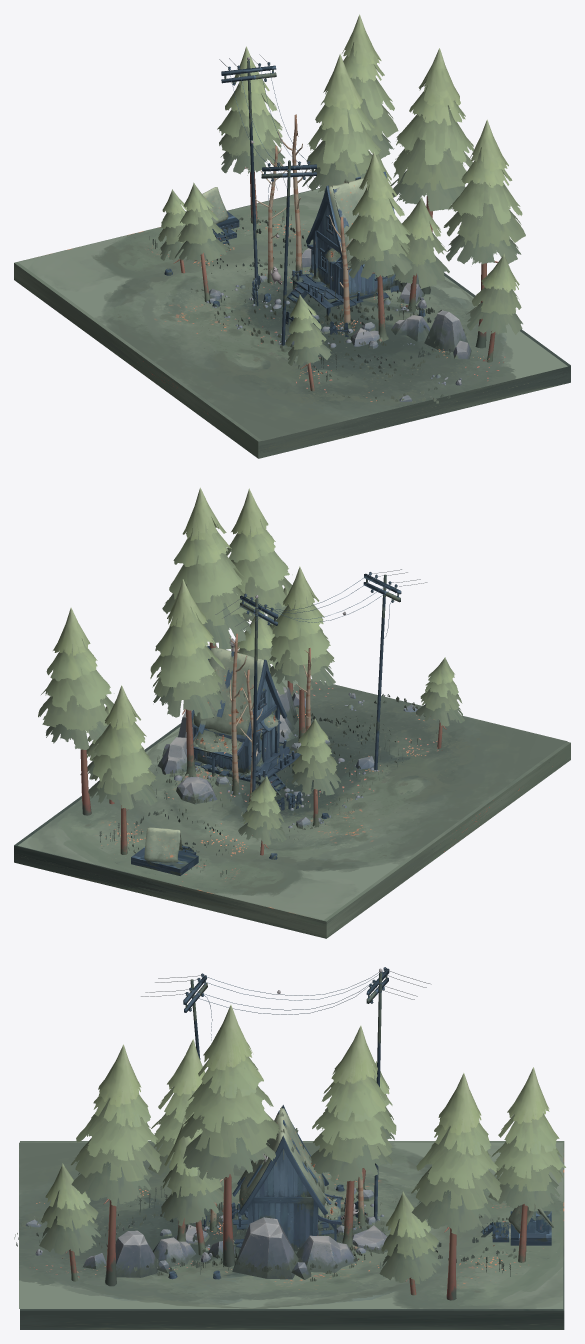
Rendered from Forest_House.fbx.
The picture shows the model from 3 angles, top to bottom: view 1: azimuth 30°, elevation 25°; view 2: azimuth 150°, elevation 25°; view 3: azimuth 270°, elevation 25°; orthographic projection. The views are drawn at different scales.
Parts seen in each view (by area): view 1: Y_Rectangular_Forest_Floor, RedwoodAlpha, Y_Extended_RedwoodAlpha, Y_Rectangular_Earth_Base, Y_Extended_RedwoodAlpha.001, Powerlines, House, Y_Extended_Rocks, Y_Extended_Grass.Ground, RoofMoss, Y_Extended_Redwood, Rocks (+7 smaller); view 2: Y_Rectangular_Forest_Floor, RedwoodAlpha, Y_Extended_RedwoodAlpha.001, Y_Rectangular_Earth_Base, Y_Extended_RedwoodAlpha, Powerlines, RoofMoss, House, Rocks, Y_Extended_RoofMoss, BTree.001, Y_Extended_Rocks (+6 smaller); view 3: Y_Rectangular_Forest_Floor, RedwoodAlpha, Y_Extended_RedwoodAlpha.001, Y_Extended_RedwoodAlpha, Y_Rectangular_Earth_Base, Rocks, House, Y_Extended_Rocks, Powerlines, RoofMoss, Redwood, Y_Extended_Redwood.001 (+5 smaller).
Part boxes in pixels (x1=…): Y_Rectangular_Forest_Floor: x1=18, y1=188, x2=567, y2=440; RedwoodAlpha: x1=174, y1=48, x2=473, y2=288; Y_Extended_RedwoodAlpha: x1=285, y1=119, x2=525, y2=365; Y_Rectangular_Earth_Base: x1=14, y1=188, x2=570, y2=458; Y_Extended_RedwoodAlpha.001: x1=158, y1=14, x2=398, y2=260; Powerlines: x1=221, y1=60, x2=316, y2=345; House: x1=306, y1=171, x2=399, y2=298; Y_Extended_Rocks: x1=350, y1=310, x2=471, y2=401; Y_Extended_Grass.Ground: x1=304, y1=305, x2=466, y2=403; RoofMoss: x1=329, y1=178, x2=367, y2=265; Y_Extended_Redwood: x1=300, y1=261, x2=498, y2=391; Rocks: x1=209, y1=248, x2=430, y2=347; Y_Rectangular_Forest_Floor: x1=18, y1=673, x2=567, y2=920; RedwoodAlpha: x1=150, y1=487, x2=340, y2=795; Y_Extended_RedwoodAlpha.001: x1=38, y1=607, x2=286, y2=844; Y_Rectangular_Earth_Base: x1=14, y1=723, x2=570, y2=938; Y_Extended_RedwoodAlpha: x1=226, y1=488, x2=464, y2=726; Powerlines: x1=239, y1=572, x2=401, y2=795; RoofMoss: x1=193, y1=647, x2=263, y2=734; House: x1=191, y1=645, x2=286, y2=773; Rocks: x1=157, y1=710, x2=374, y2=829; Y_Extended_RoofMoss: x1=144, y1=827, x2=182, y2=862; BTree.001: x1=229, y1=633, x2=247, y2=795; Y_Extended_Rocks: x1=276, y1=687, x2=417, y2=753; Y_Rectangular_Forest_Floor: x1=19, y1=1142, x2=563, y2=1308; RedwoodAlpha: x1=161, y1=1005, x2=396, y2=1226; Y_Extended_RedwoodAlpha.001: x1=379, y1=1067, x2=565, y2=1283; Y_Extended_RedwoodAlpha: x1=39, y1=1039, x2=205, y2=1255; Y_Rectangular_Earth_Base: x1=20, y1=1141, x2=564, y2=1329; Rocks: x1=194, y1=1187, x2=387, y2=1279; House: x1=237, y1=1105, x2=328, y2=1251; Y_Extended_Rocks: x1=25, y1=1219, x2=206, y2=1277; Powerlines: x1=183, y1=967, x2=389, y2=1221; RoofMoss: x1=239, y1=1108, x2=325, y2=1206; Redwood: x1=195, y1=1168, x2=365, y2=1267; Y_Extended_Redwood.001: x1=405, y1=1204, x2=527, y2=1300.
Bounding box in the file's own units: 14.21 × 11.45 × 18.42.
